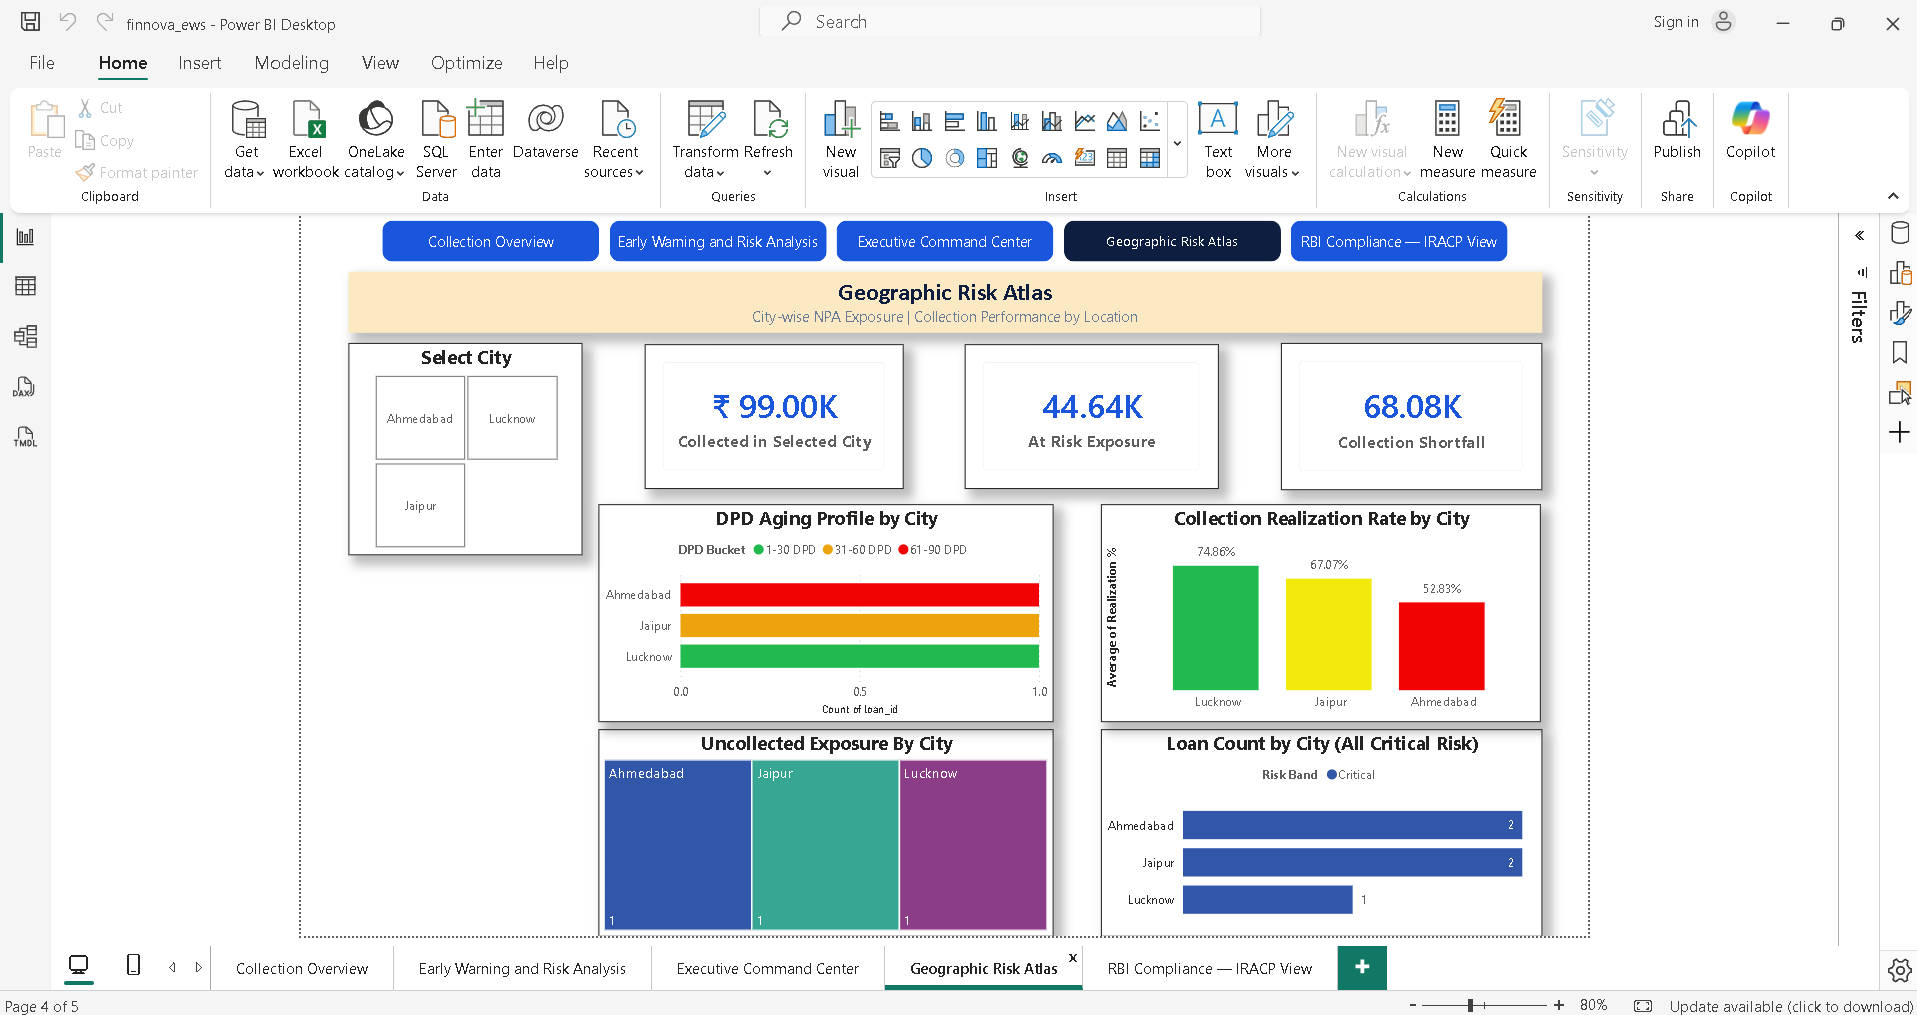

The dashboard page shown, as its layout file describes it:
{"tool":"powerbi","page":{"name":"Geographic Risk Atlas","canvas":[1280,720],"ordinal":3},"visuals":[{"type":"textbox","box":[47.3,58.5,1188,61],"z":0},{"type":"cardVisual","fields":{"Data":["public vw_collection_performance.Total Collected"]},"box":[341.6,130.4,257.5,144.3],"z":1000},{"type":"cardVisual","fields":{"Data":["public vw_collection_priority.Recovery Gap"]},"box":[975,129.1,260,146.8],"z":2000},{"type":"cardVisual","fields":{"Data":["public vw_collection_priority.At Risk Amount"]},"box":[660.8,130.4,252.5,144.3],"z":3000},{"type":"clusteredBarChart","title":"Loan Count by City (All Critical Risk)","fields":{"Category":["public vw_collection_performance.city"],"Series":["public vw_collection_performance.risk_band"],"Y":["CountNonNull(public vw_collection_performance.loan_id)"]},"box":[796.1,513.8,439.1,206.5],"z":4000},{"type":"clusteredColumnChart","title":"Collection Realization Rate by City","fields":{"Category":["public vw_collection_priority.city"],"Y":["Avg(public vw_collection_priority.Realization %)"]},"box":[796.1,290.1,437.9,216.4],"z":5000},{"type":"treemap","title":"Uncollected Exposure By City","fields":{"Group":["public vw_collection_priority.city"],"Values":["CountNonNull(public vw_collection_priority.total_uncollected)"]},"box":[296.1,513.8,452.8,206.5],"z":6000},{"type":"barChart","title":"DPD Aging Profile by City","fields":{"Category":["public vw_collection_priority.city"],"Series":["public vw_collection_priority.dpd_bucket"],"Y":["CountNonNull(public vw_collection_priority.loan_id)"]},"box":[296.1,290.1,452.8,216.4],"z":7000},{"type":"slicer","title":"Select City","fields":{"Values":["public vw_collection_performance.city"]},"box":[47.3,129.4,232.6,211.5],"z":8000},{"type":"pageNavigator","box":[80.9,7.5,1122.1,41.1],"z":9000}]}

Visuals, with their boxes on the page's 1280x720 design canvas (x1, y1, x2, y2). These are canvas units, not pixel positions in the 1917x1015 screenshot, which may show the page scaled, cropped or inside an application window:
textbox: x1=47, y1=58, x2=1235, y2=120
cardVisual - public vw_collection_performance.Total Collected: x1=342, y1=130, x2=599, y2=275
cardVisual - public vw_collection_priority.Recovery Gap: x1=975, y1=129, x2=1235, y2=276
cardVisual - public vw_collection_priority.At Risk Amount: x1=661, y1=130, x2=913, y2=275
"Loan Count by City (All Critical Risk)" clusteredBarChart: x1=796, y1=514, x2=1235, y2=720
"Collection Realization Rate by City" clusteredColumnChart: x1=796, y1=290, x2=1234, y2=506
"Uncollected Exposure By City" treemap: x1=296, y1=514, x2=749, y2=720
"DPD Aging Profile by City" barChart: x1=296, y1=290, x2=749, y2=506
"Select City" slicer: x1=47, y1=129, x2=280, y2=341
pageNavigator: x1=81, y1=8, x2=1203, y2=49
